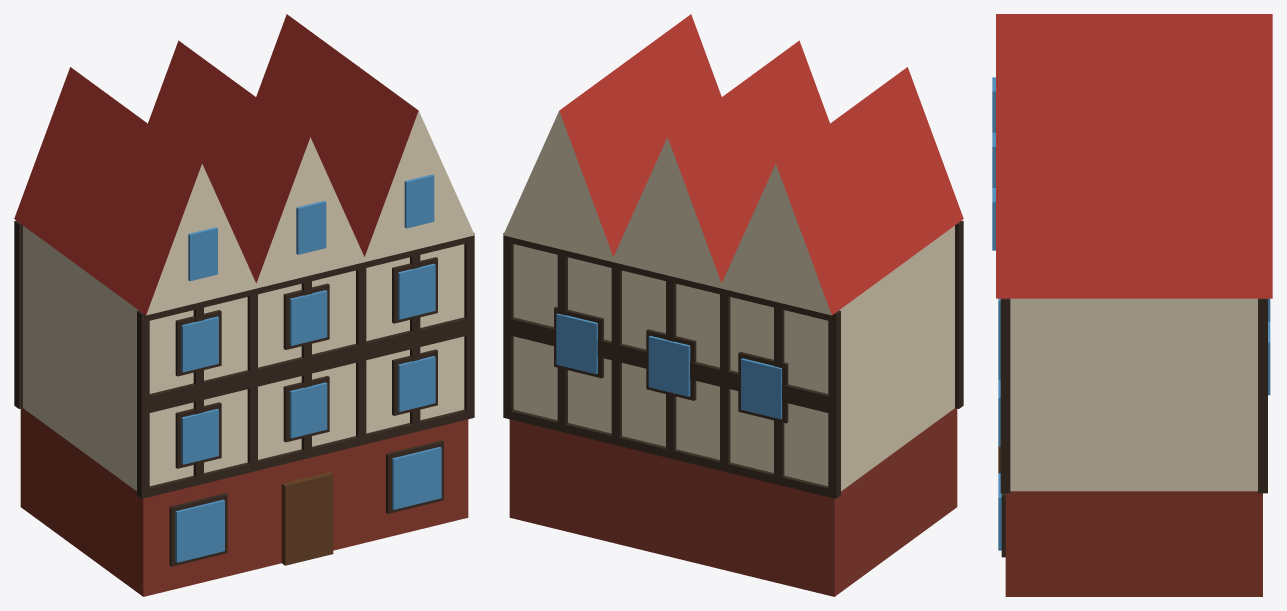
The model's file is 37_kgd_fishing_village_1.obj.
3 renders of one model, left to right at view 1: azimuth 30°, elevation 25°; view 2: azimuth 150°, elevation 25°; view 3: azimuth 270°, elevation 25°, orthographic. The views are drawn at different scales.
Parts seen in each view (by area): view 1: 37_kgd_fishing_village_1; view 2: 37_kgd_fishing_village_1; view 3: 37_kgd_fishing_village_1.
Boxes of the visible parts, box(x1,y1,x2,y2) form: 37_kgd_fishing_village_1: box(14, 14, 474, 596); 37_kgd_fishing_village_1: box(503, 14, 963, 596); 37_kgd_fishing_village_1: box(992, 14, 1272, 596).
Bounding box in the file's own units: 1.66 × 2.02 × 1.15.
